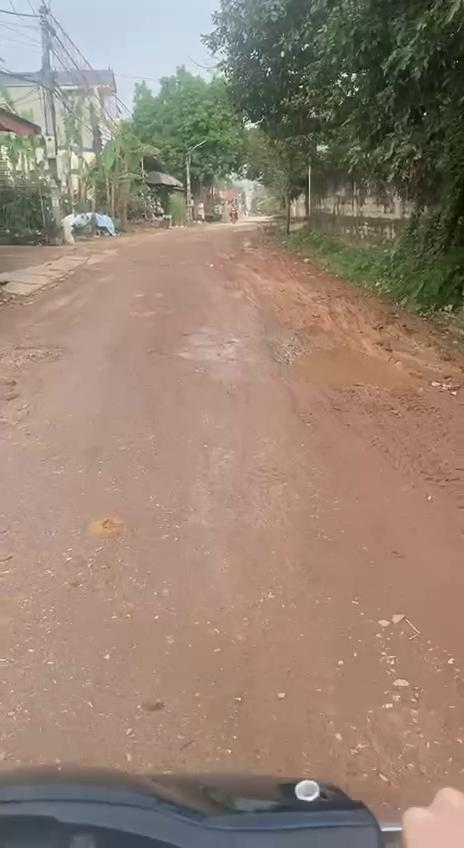pothole: (282, 340, 414, 394), (0, 341, 76, 373)
